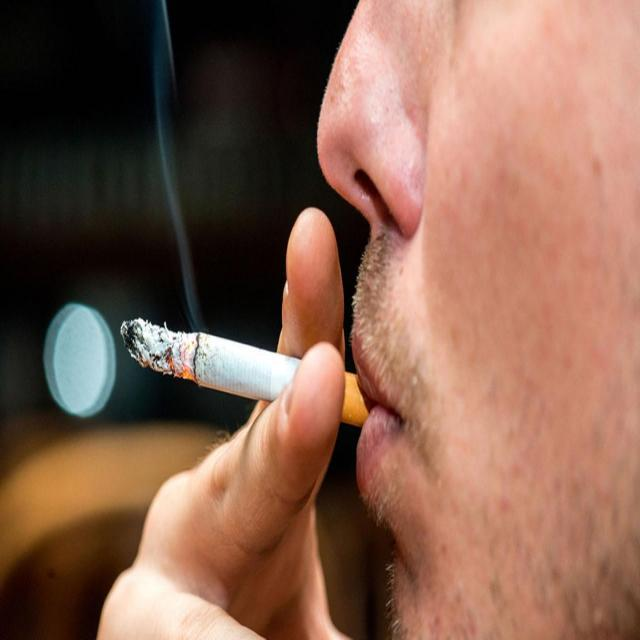cigarette: (103, 306, 298, 414)
